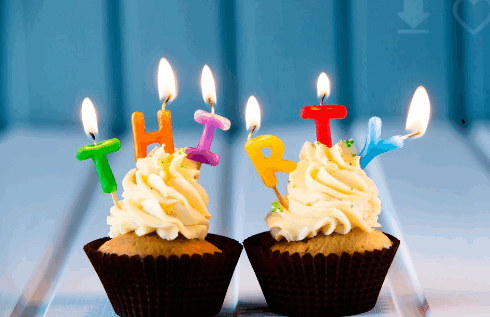Fire: (401, 82, 441, 141), (154, 55, 187, 125), (68, 92, 106, 142), (198, 58, 227, 122), (239, 87, 267, 142), (310, 67, 339, 100)
